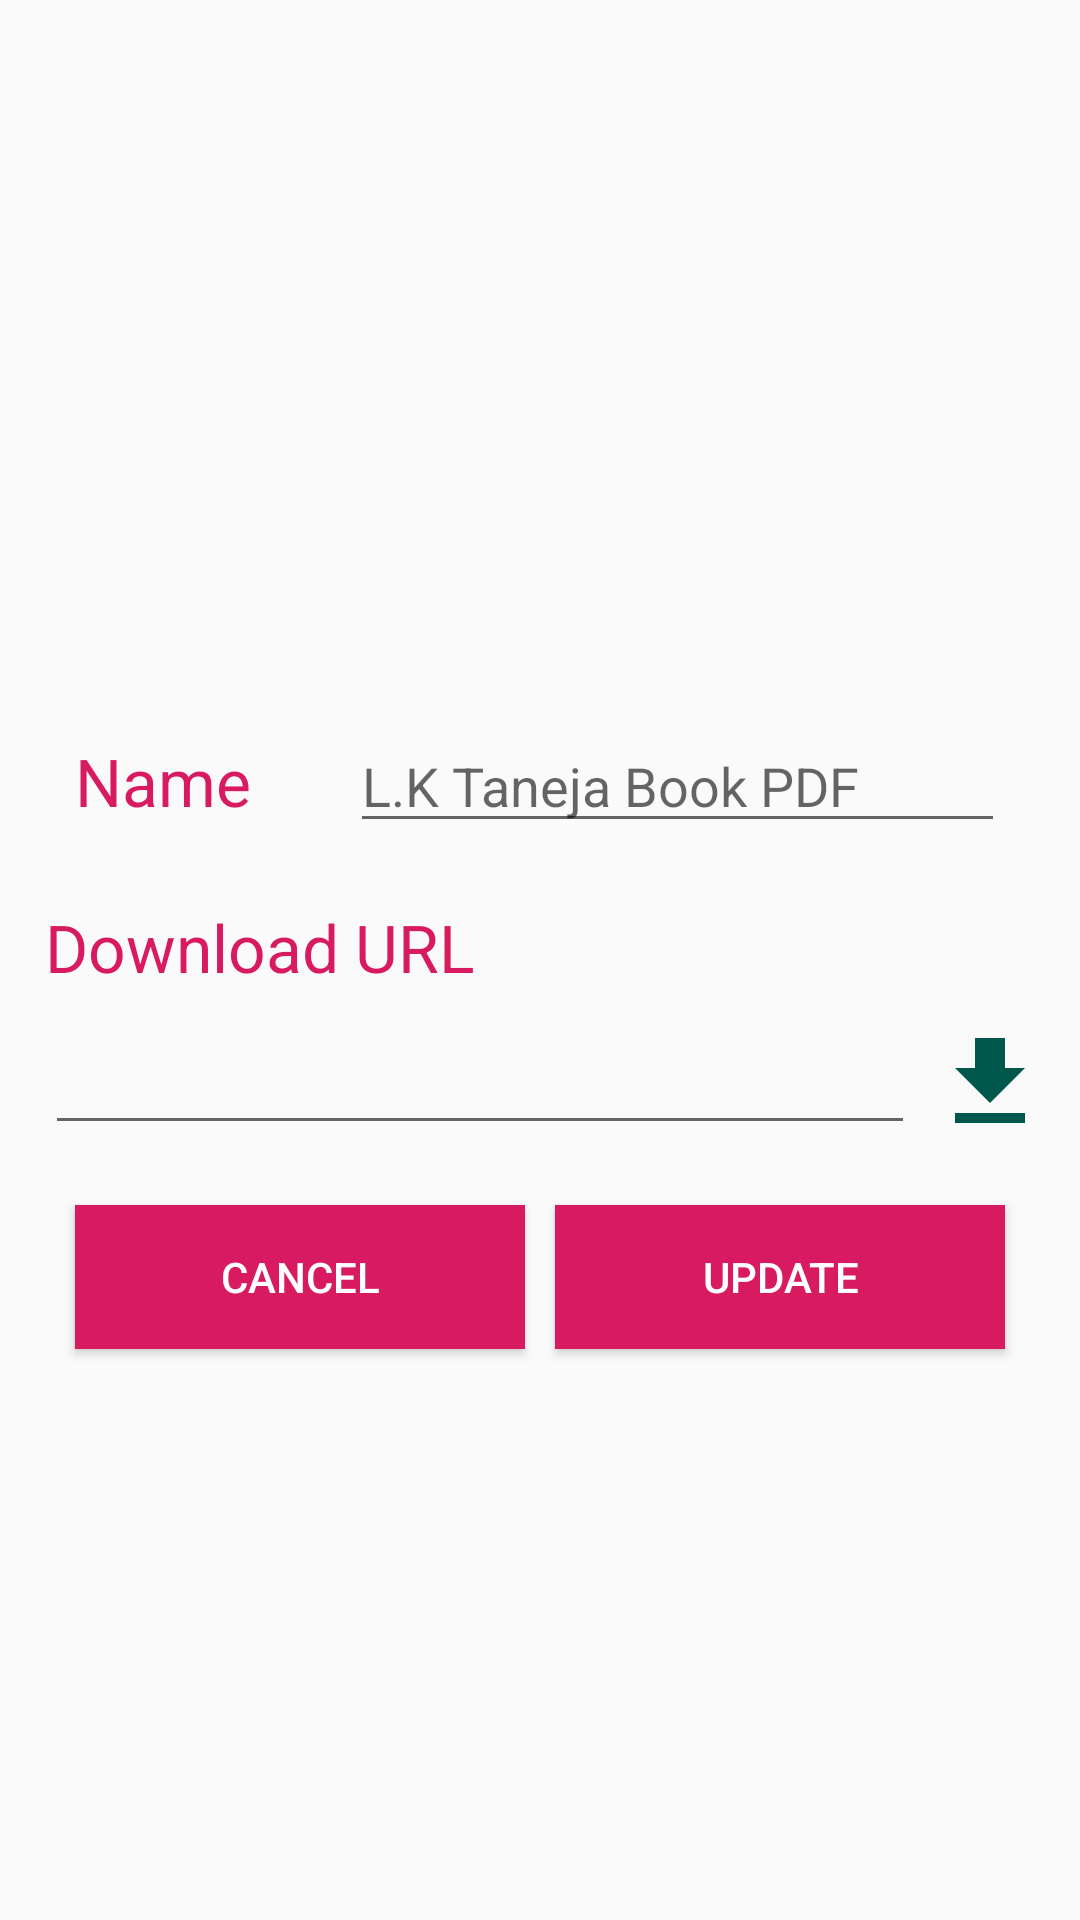

Named icons in this screenshot (1080px×1920px) and their bounding boxes, (x1, y1, x2, y2):
file download: (955, 1038, 1025, 1123)
